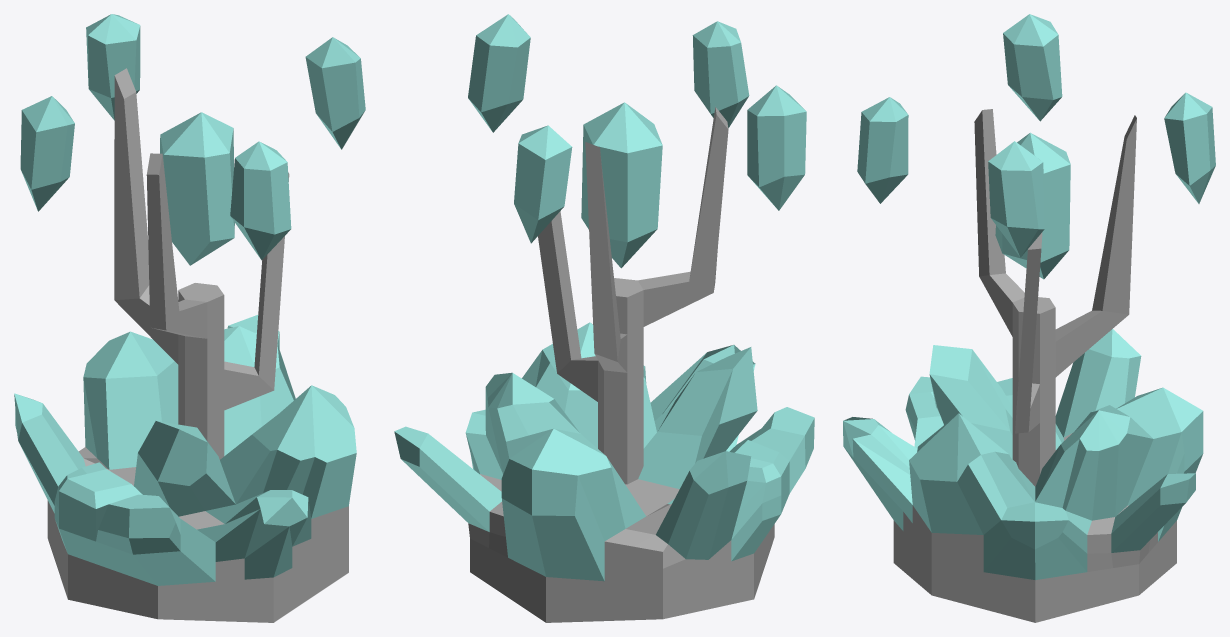
The model's file is gltd_lightningTower.fbx.
3 renders of one model, left to right at view 1: azimuth 30°, elevation 25°; view 2: azimuth 150°, elevation 25°; view 3: azimuth 270°, elevation 25°, orthographic. The views are drawn at different scales.
Parts seen in each view (by area): view 1: Base, Rods, floatingCrystals2, floatingCrystals1, centerCrystal; view 2: Base, Rods, floatingCrystals1, floatingCrystals2, centerCrystal; view 3: Base, Rods, floatingCrystals1, floatingCrystals2, centerCrystal.
Boxes of the visible parts, x1,y1,x2,y2 form: Base: [14, 315, 356, 622]; Rods: [114, 68, 289, 459]; floatingCrystals2: [86, 14, 291, 260]; floatingCrystals1: [20, 37, 365, 211]; centerCrystal: [160, 112, 234, 265]; Base: [394, 322, 814, 622]; Rods: [538, 107, 728, 484]; floatingCrystals1: [468, 14, 806, 210]; floatingCrystals2: [514, 21, 749, 243]; centerCrystal: [581, 102, 662, 268]; Base: [843, 329, 1203, 622]; Rods: [974, 109, 1136, 486]; floatingCrystals1: [988, 14, 1062, 257]; floatingCrystals2: [857, 92, 1215, 203]; centerCrystal: [995, 132, 1070, 279].
Bounding box in the file's own units: 751 × 1123 × 790.
